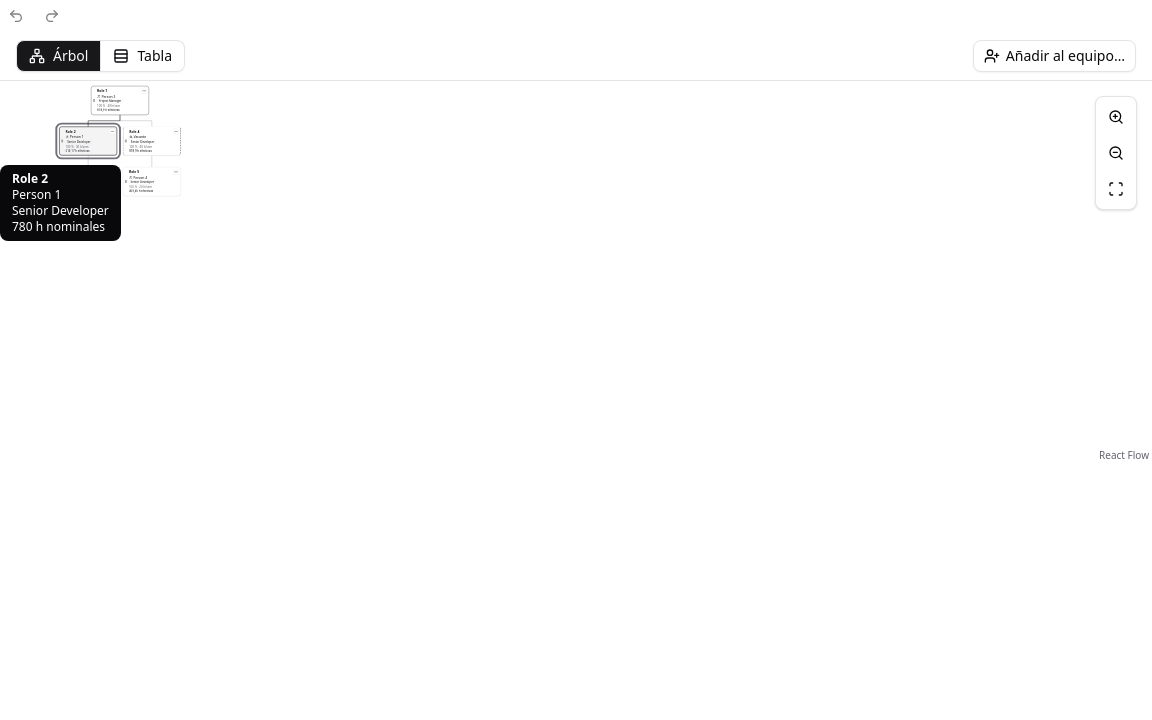
Scenario: the team's menus › edits an assignment's fields in one change, and focuses it again
The image size is (1152, 720).
Press Enter
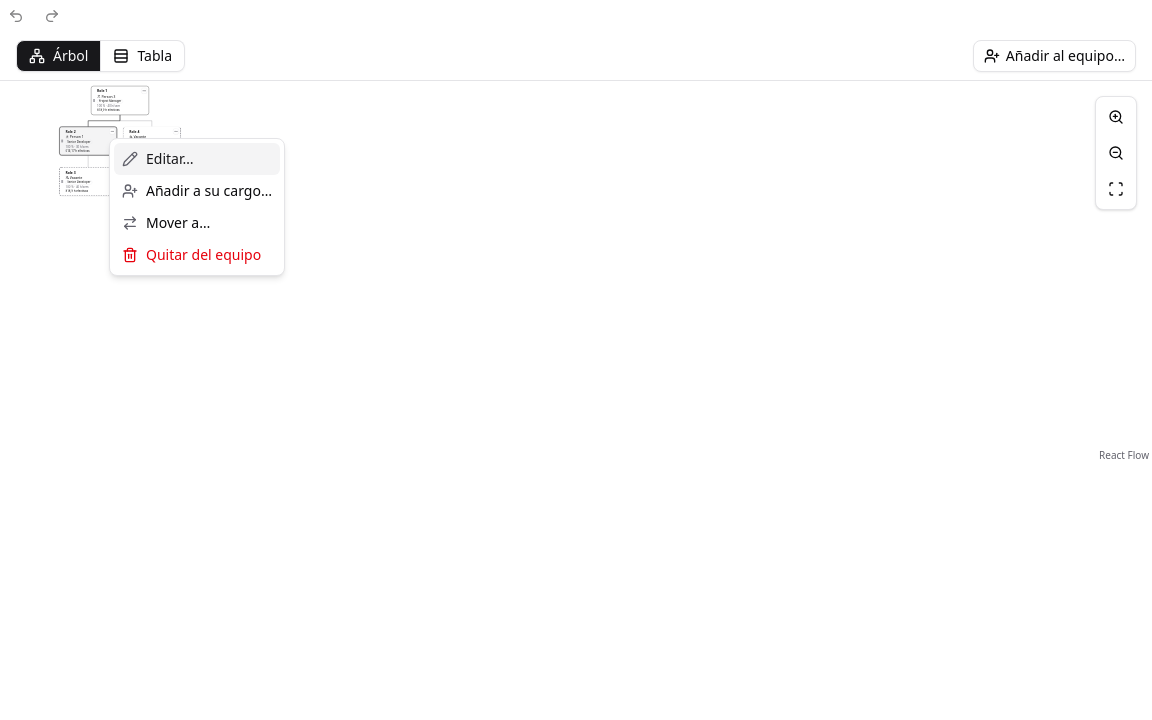
Click the menu item "Editar…" at (197, 159), box [114, 143, 280, 175]
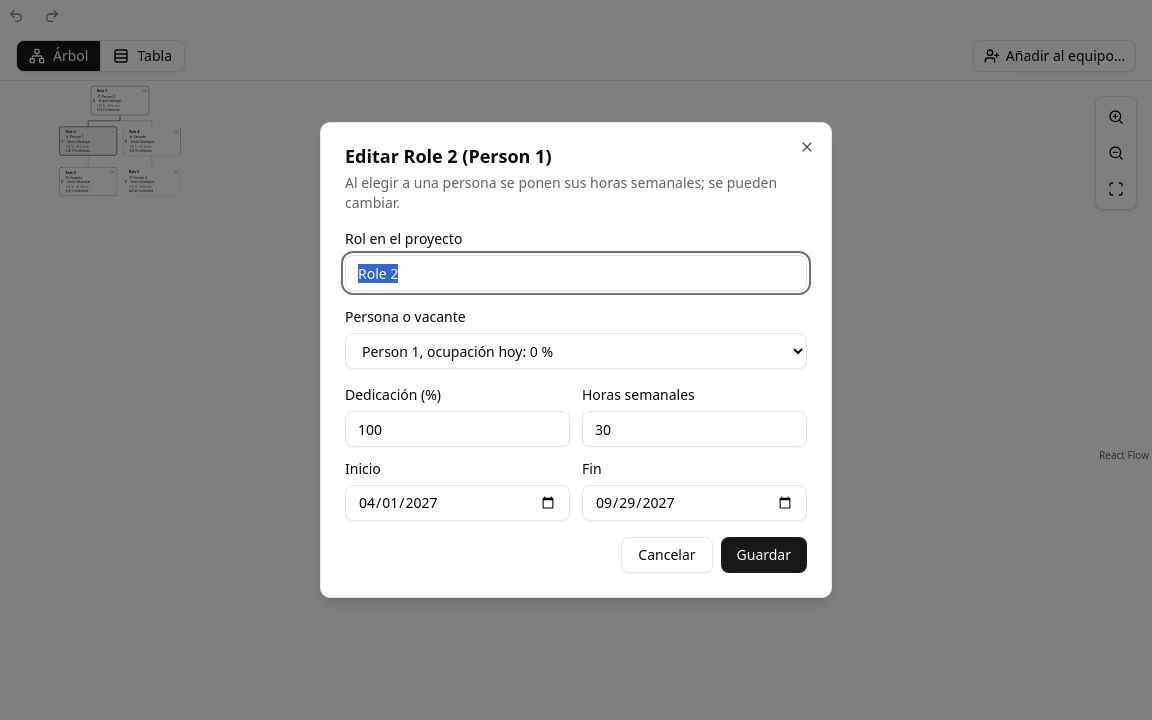
Expected: the field labelled "Horas semanales" holds "30", [582, 411, 807, 447]
Replace the text in the field labelled "Rol en el proyecto" with "Architect" at (576, 273), box [345, 255, 807, 291]
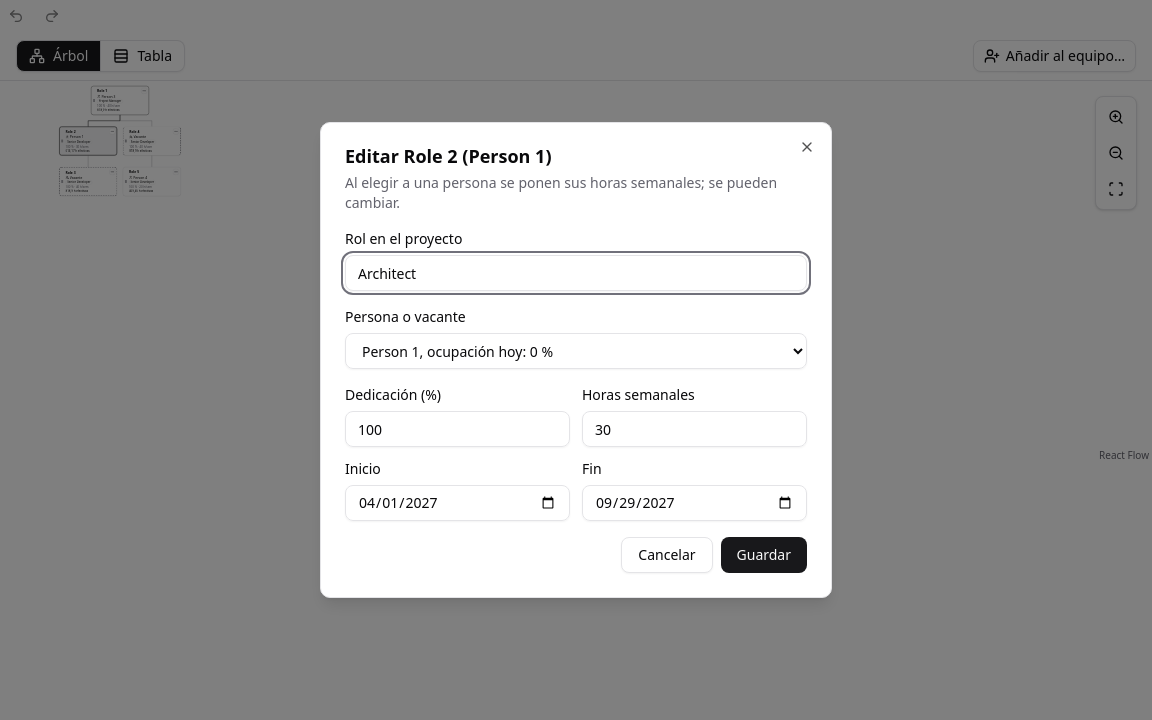
Replace the text in the field labelled "Dedicación (%)" with "50" at (458, 429), box [345, 411, 570, 447]
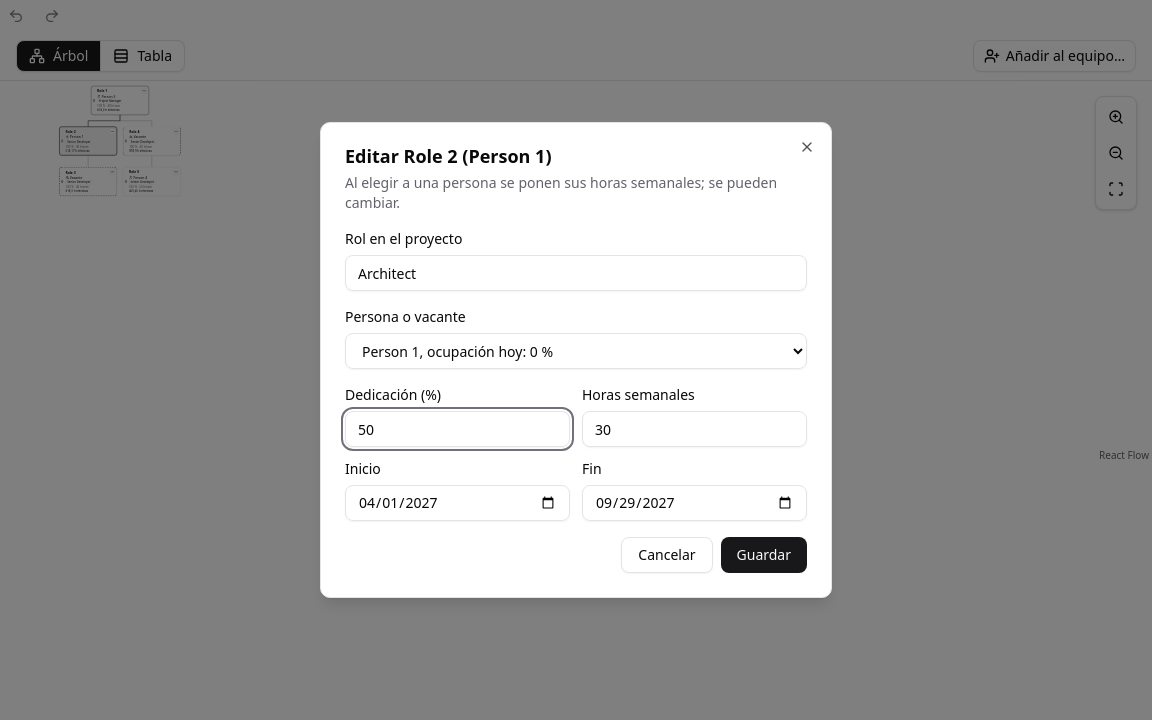
Replace the text in the field labelled "Horas semanales" with "32,5" at (694, 429), box [582, 411, 807, 447]
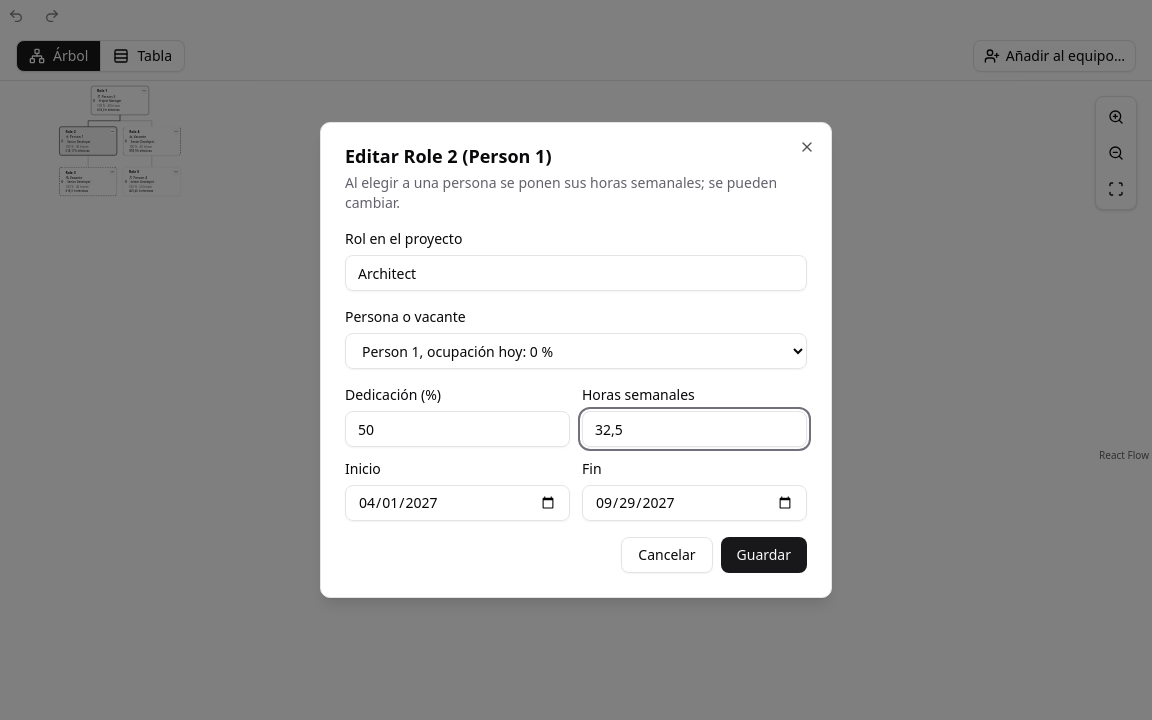
Click the button "Guardar" at (764, 555), box [720, 537, 807, 573]
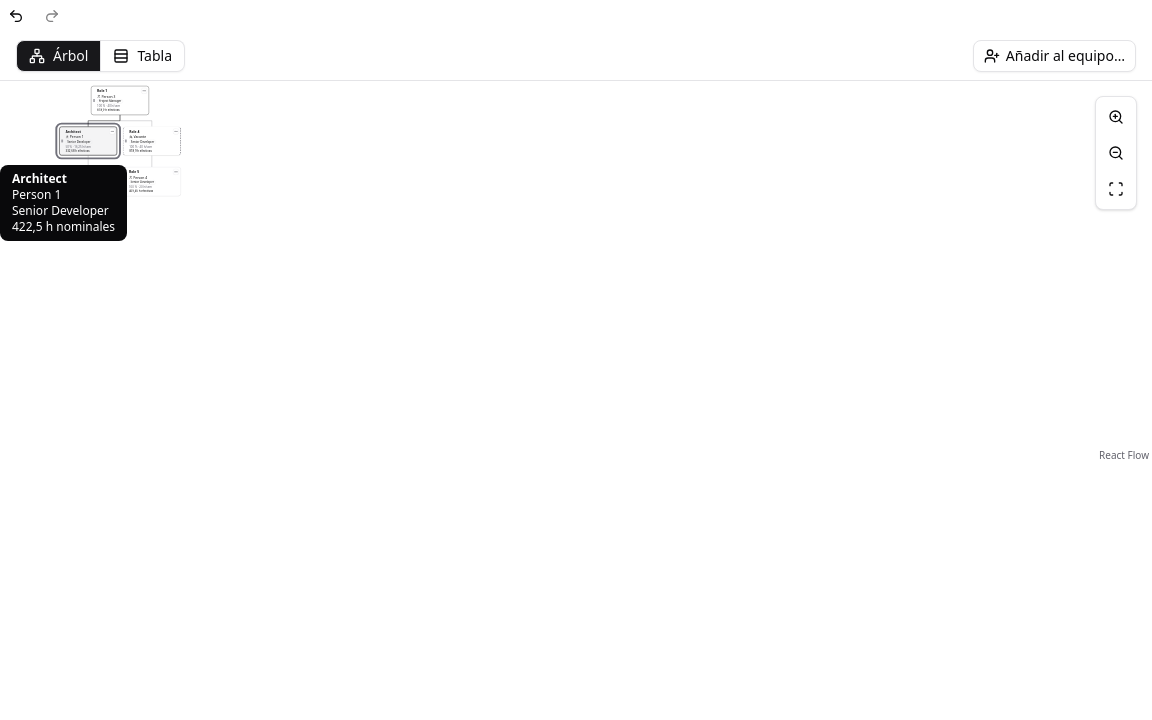
Expected: the dialog is gone
